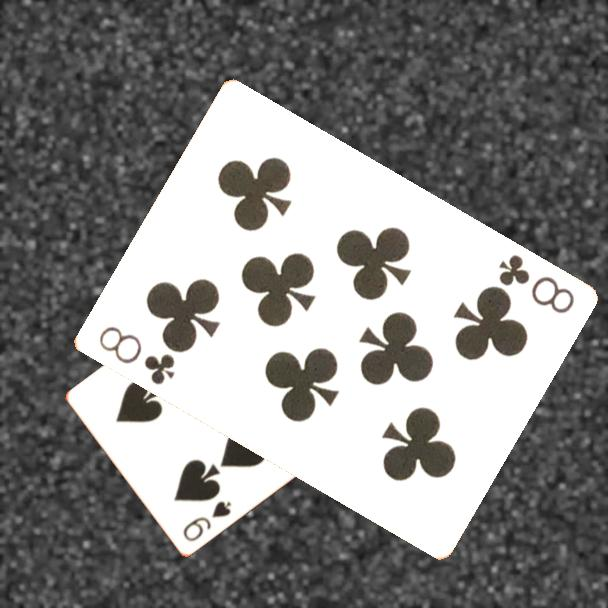c08: (494, 250, 577, 317), (94, 322, 178, 388)
s09: (179, 498, 234, 545)
